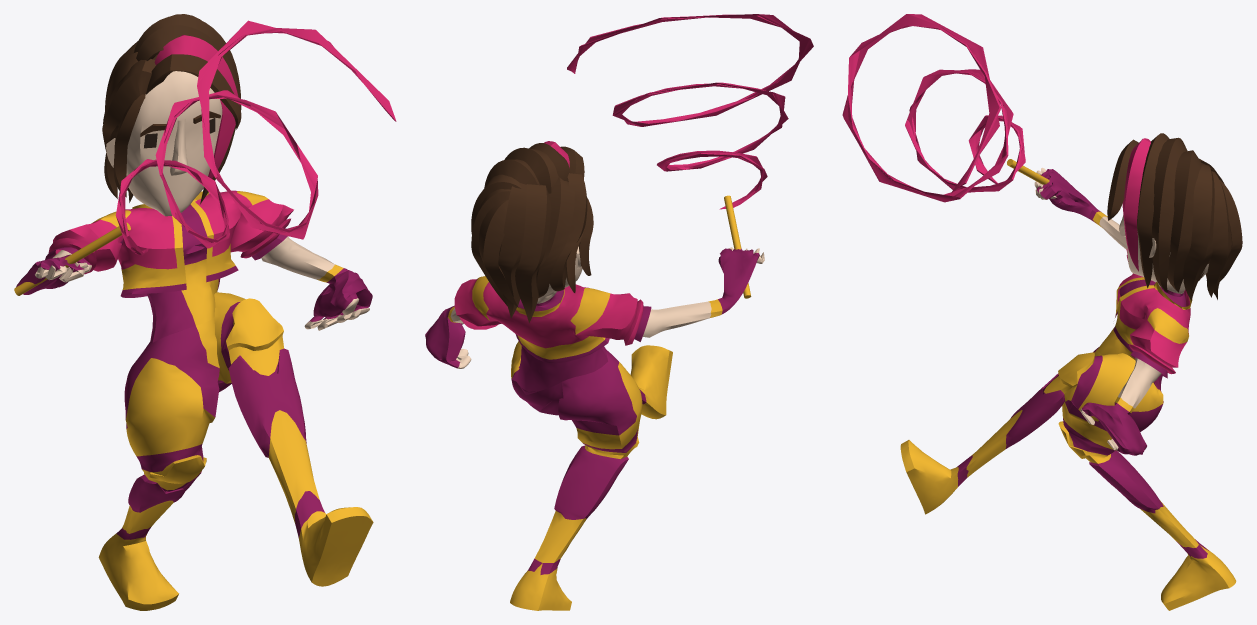
The model's file is av-ginasta-fita.glb.
3 renders of one model, left to right at view 1: azimuth 30°, elevation 25°; view 2: azimuth 150°, elevation 25°; view 3: azimuth 270°, elevation 25°, orthographic. The views are drawn at different scales.
Parts seen in each view (by area): view 1: Ad_fita_0_0; view 2: Ad_fita_0_0; view 3: Ad_fita_0_0.
Boxes of the visible parts, x1,y1,x2,y2 form: Ad_fita_0_0: (14,14,396,610); Ad_fita_0_0: (425,14,813,610); Ad_fita_0_0: (842,14,1242,610).
Bounding box in the file's own units: 1.04 × 1.74 × 1.15.
Materials: 1 (1 with a texture image).
